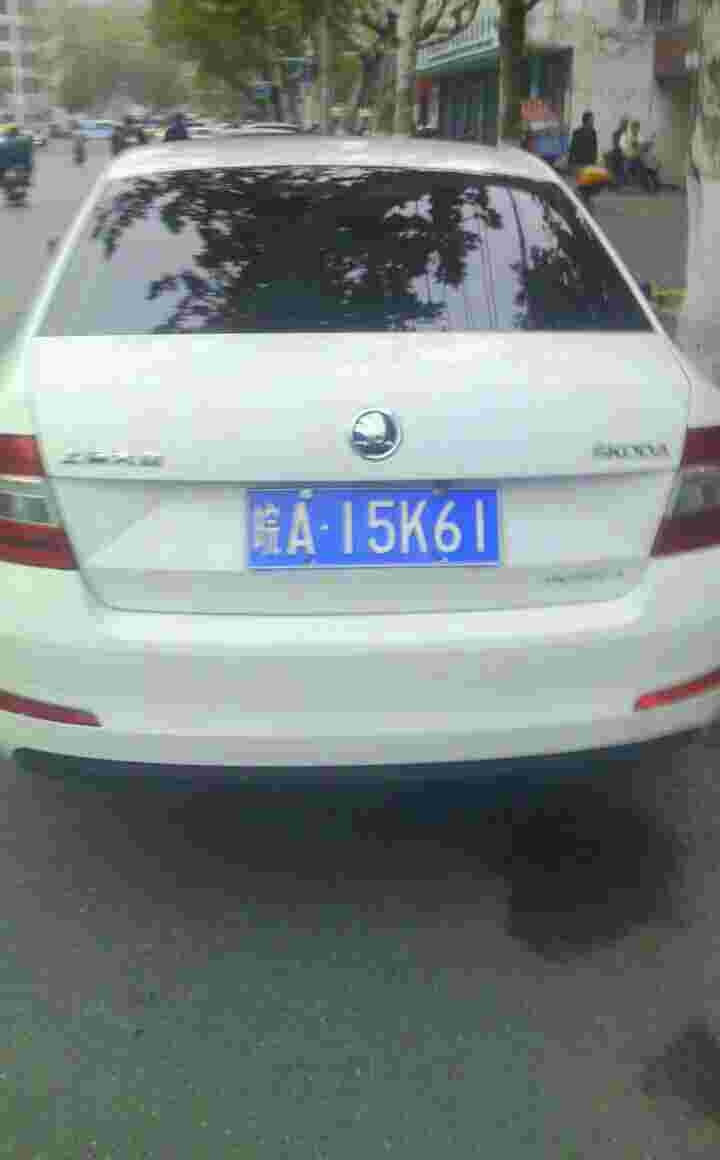plate: (248, 480, 511, 573)
